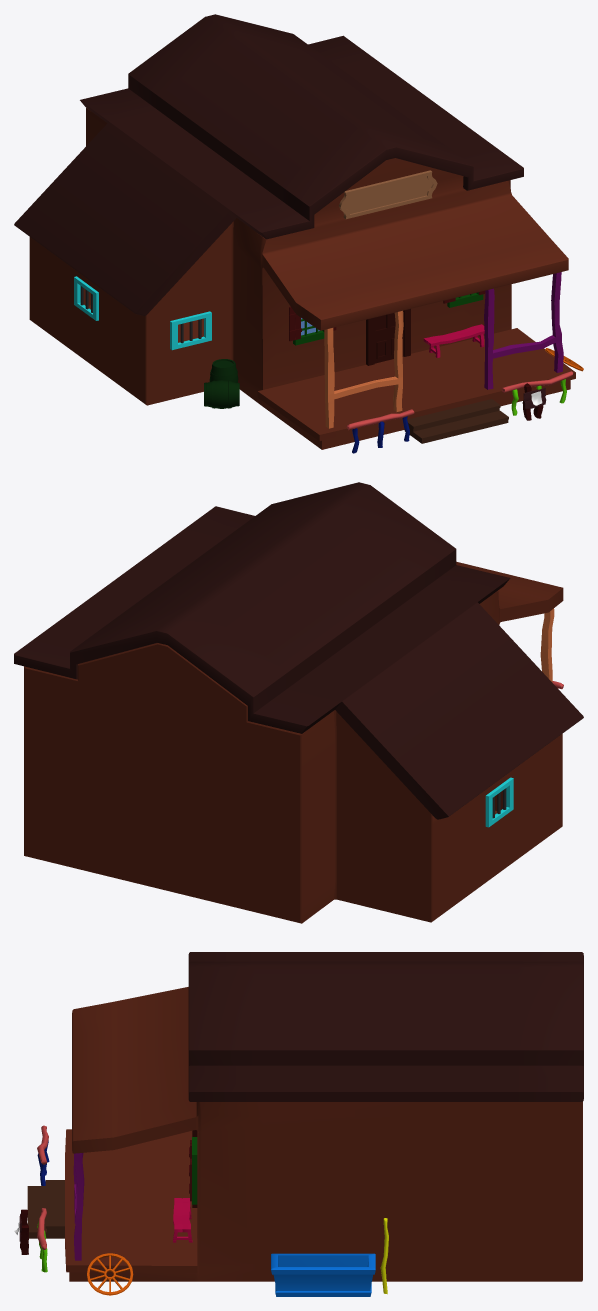
The model's file is SheriffsOffice.fbx.
3 renders of one model, top to bottom at view 1: azimuth 30°, elevation 25°; view 2: azimuth 150°, elevation 25°; view 3: azimuth 270°, elevation 25°, orthographic. The views are drawn at different scales.
Visible parts, largest first — view 1: Office, Roof, Plaque, Stair, Stand2, Stand003, Door_Frame_1, Barrel003, Bench, Window_Frame_13, Barrel, Window_Frame_015; view 2: Office, Roof, Window_Frame_015, Stand003; view 3: Office, Roof, Water_Trough, Stair, Stand2, Wheel, Bench.
Boxes of the visible parts, left/top/right/bottom form: Office: left=29, top=108, right=575, bottom=449; Roof: left=14, top=14, right=523, bottom=315; Plaque: left=339, top=170, right=437, bottom=219; Stair: left=404, top=399, right=508, bottom=443; Stand2: left=484, top=272, right=563, bottom=389; Stand003: left=324, top=310, right=403, bottom=428; Door_Frame_1: left=366, top=309, right=410, bottom=365; Barrel003: left=204, top=380, right=239, bottom=408; Bench: left=423, top=324, right=484, bottom=357; Window_Frame_13: left=170, top=311, right=211, bottom=350; Barrel: left=209, top=359, right=238, bottom=382; Window_Frame_015: left=74, top=276, right=98, bottom=320; Office: left=24, top=561, right=563, bottom=923; Roof: left=14, top=482, right=583, bottom=819; Window_Frame_015: left=485, top=777, right=513, bottom=827; Stand003: left=540, top=608, right=554, bottom=682; Office: left=65, top=987, right=582, bottom=1281; Roof: left=188, top=952, right=583, bottom=1101; Water_Trough: left=271, top=1253, right=375, bottom=1296; Stair: left=27, top=1180, right=64, bottom=1238; Stand2: left=73, top=1153, right=84, bottom=1260; Wheel: left=87, top=1253, right=133, bottom=1295; Bench: left=173, top=1198, right=192, bottom=1242.
Bounding box in the file's own units: 1233 × 711 × 1457.
